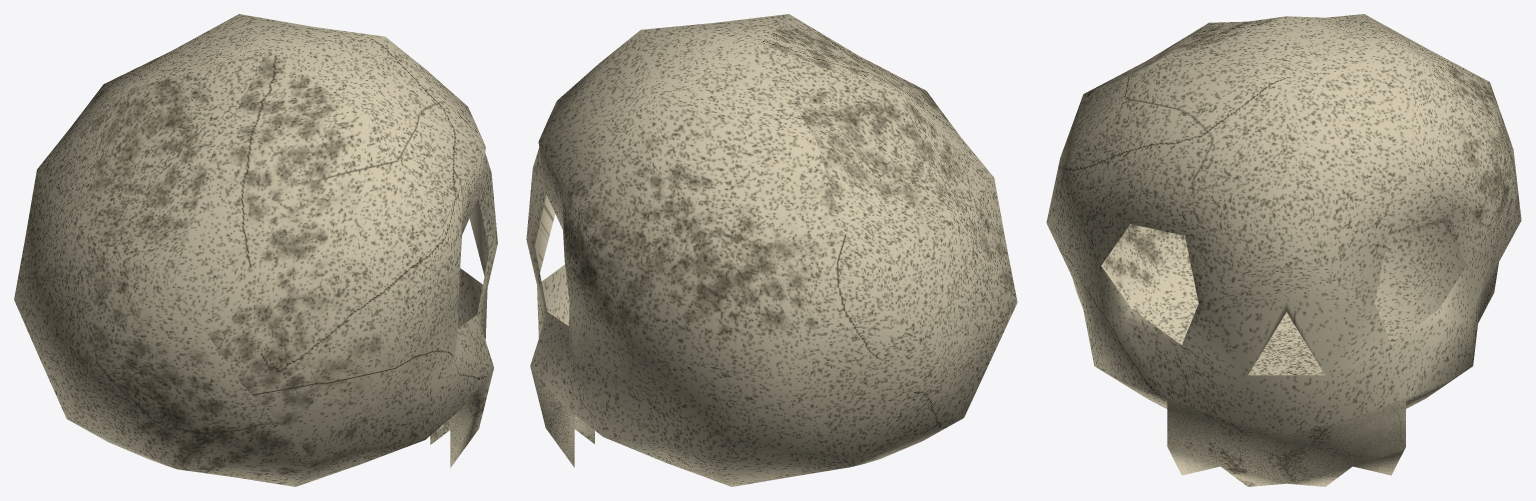
Rendered from lowpoly_skull.fbx.
The picture shows the model from 3 angles, left to right: view 1: azimuth 30°, elevation 25°; view 2: azimuth 150°, elevation 25°; view 3: azimuth 270°, elevation 25°; orthographic projection. The views are drawn at different scales.
Parts seen in each view (by area): view 1: Icosphere; view 2: Icosphere; view 3: Icosphere.
Boxes of the visible parts, x1,y1,x2,y2 form: Icosphere: (14, 14, 497, 486); Icosphere: (526, 14, 1017, 486); Icosphere: (1046, 14, 1521, 486).
Bounding box in the file's own units: 190 × 177 × 189.
